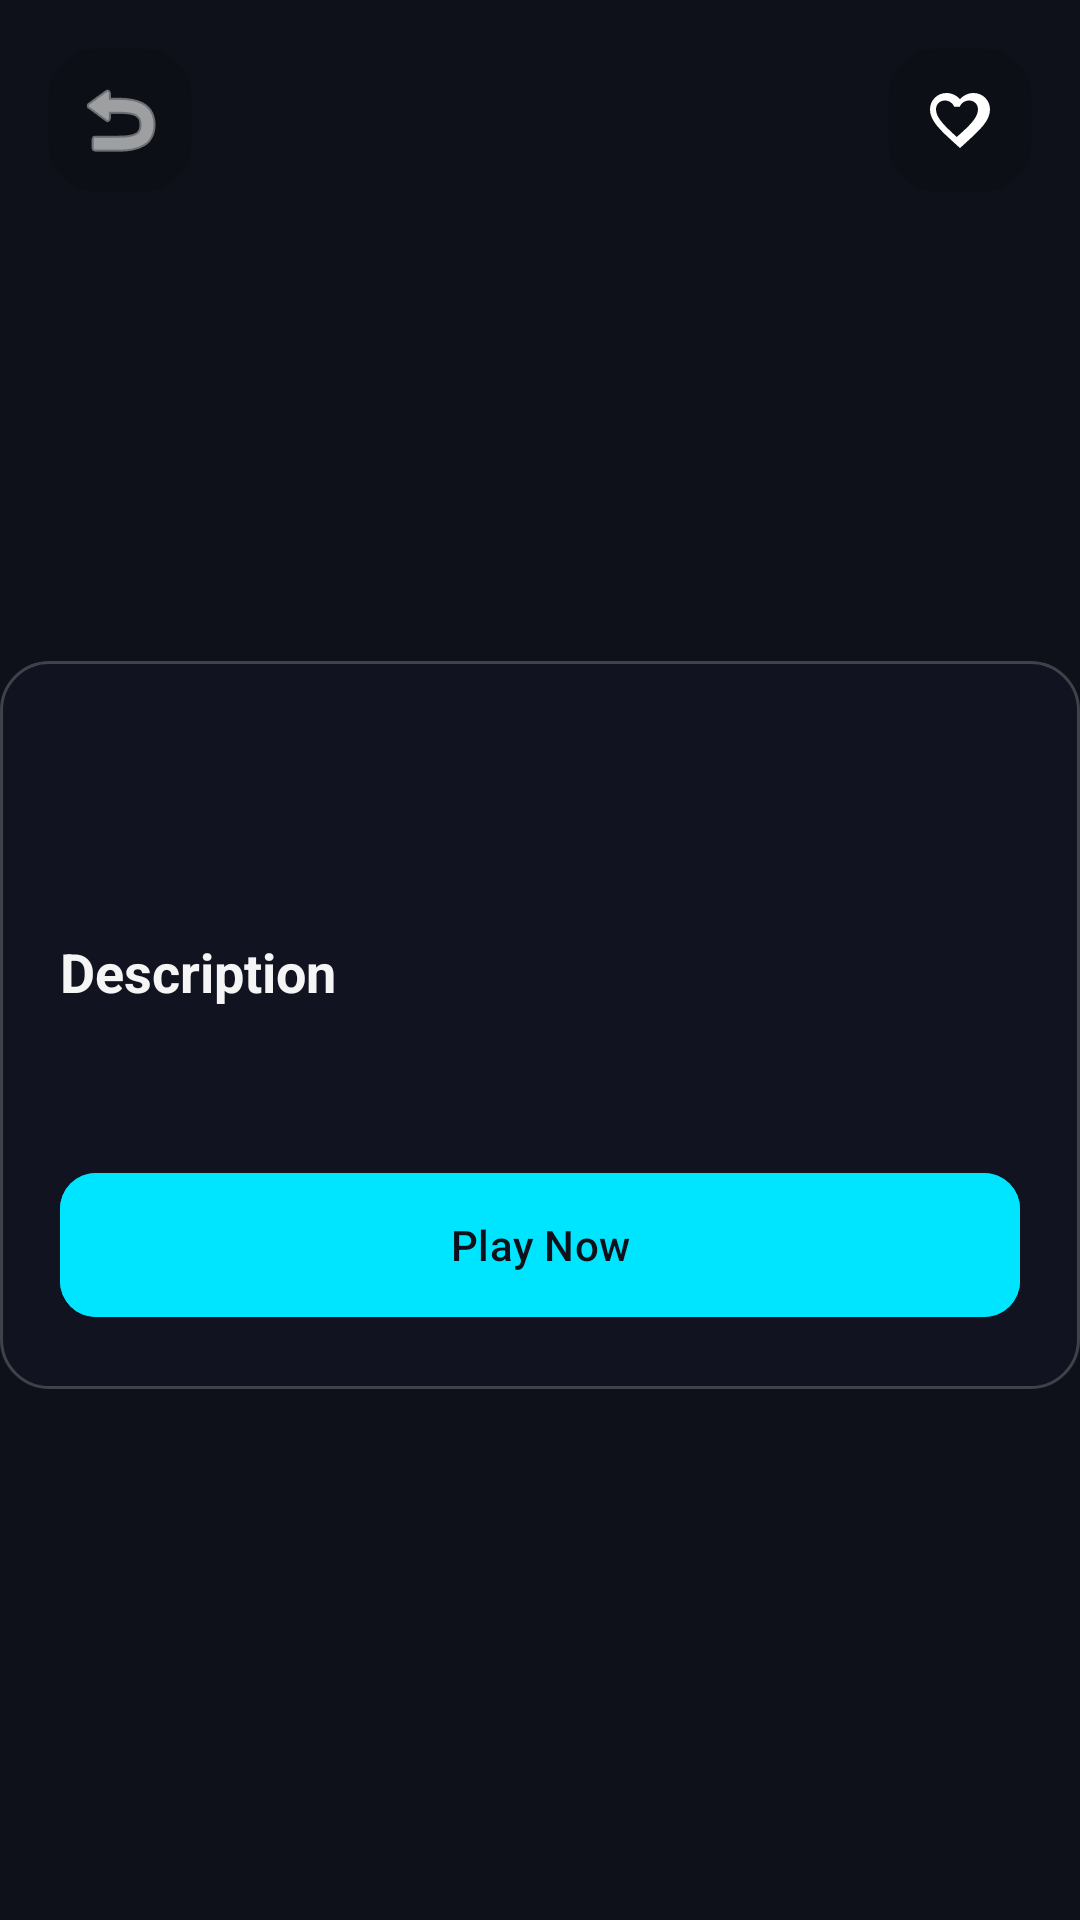

Locate icon controls on the screen. Image size 1080px×1920px, boxes as (x1, y1, x2, y2).
favorite border: (930, 93, 990, 148)
revert: (87, 89, 156, 152)
